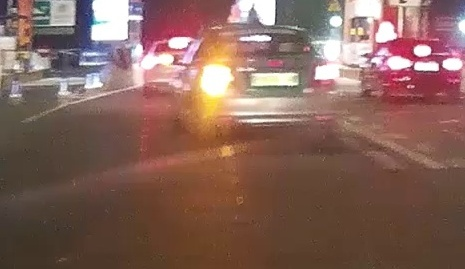L_light: (200, 63, 235, 95), (387, 56, 412, 71)
R_light: (309, 64, 337, 87), (442, 57, 462, 71)
T_light: (239, 34, 273, 41), (413, 47, 432, 53)
night-brake: (384, 36, 463, 103)
night-left: (198, 24, 339, 138)
